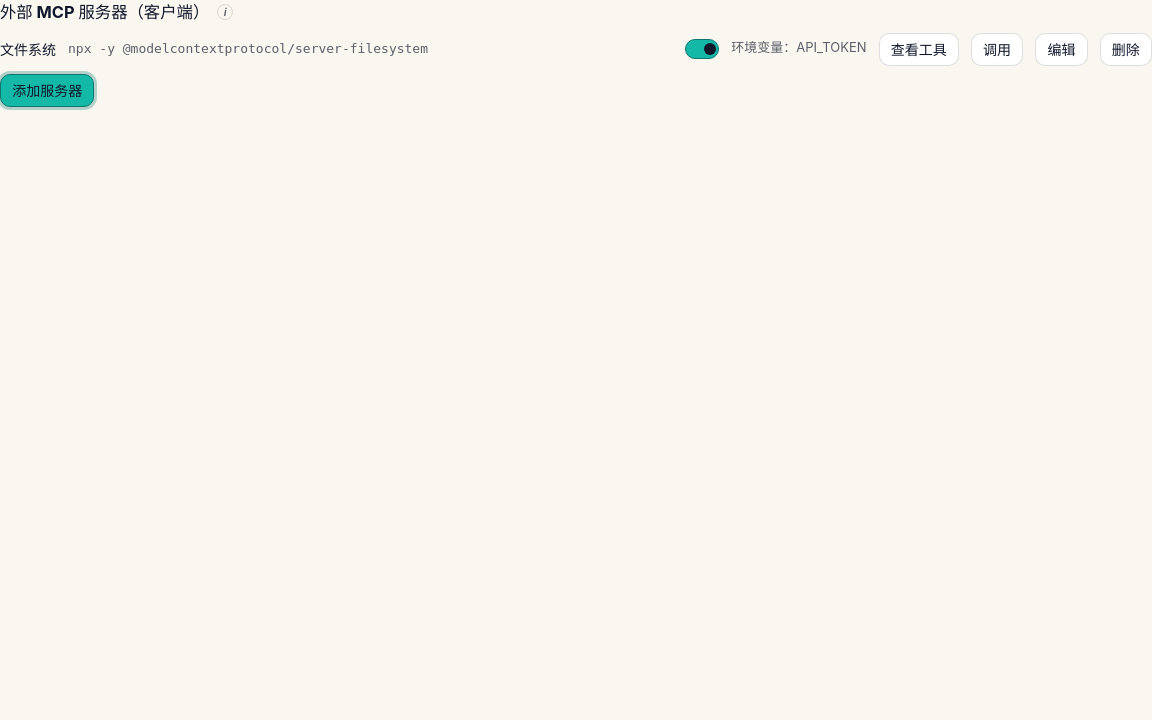
Scenario: McpClientSettings › 编辑：env 留空提交为 null（保留旧值），填写则覆盖
Later steps or results of the test are not shown.
Click the button with test id "mcp-client-edit-srv-1" at (1062, 49), box [1035,33,1088,66]
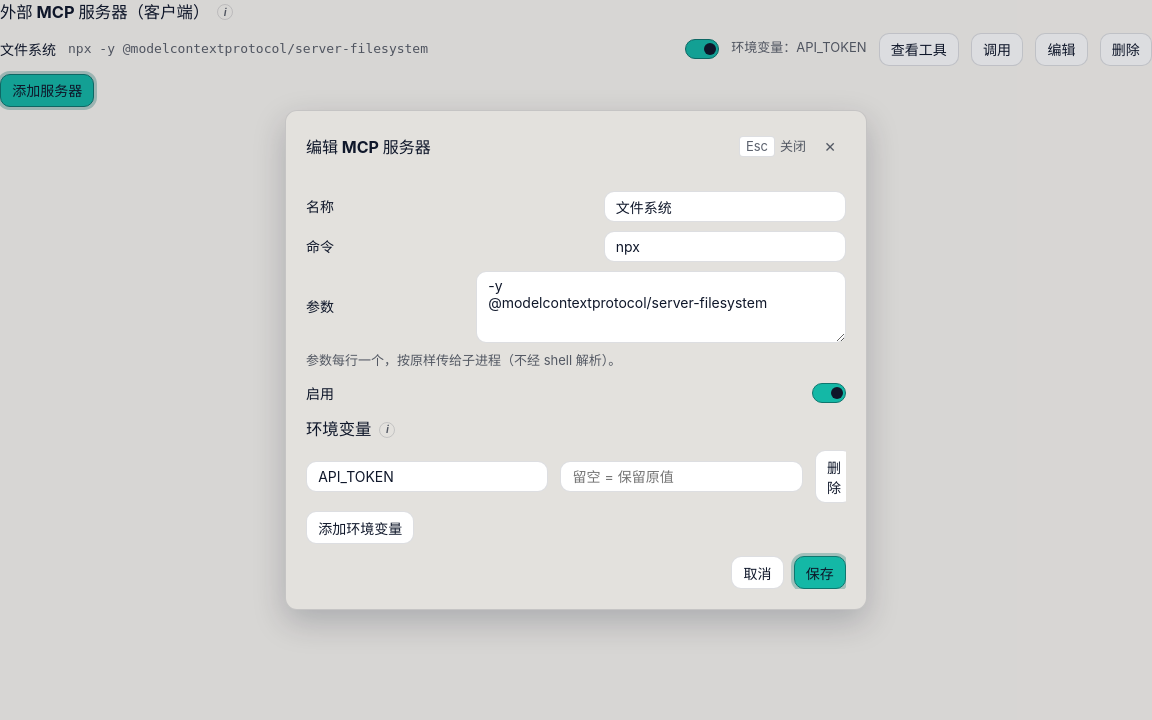
Check: the password field with test id "mcp-client-env-value-0" is empty, box [560,461,803,492]
Check: the field with test id "mcp-client-env-name-0" holds "API_TOKEN", box [306,461,548,492]
